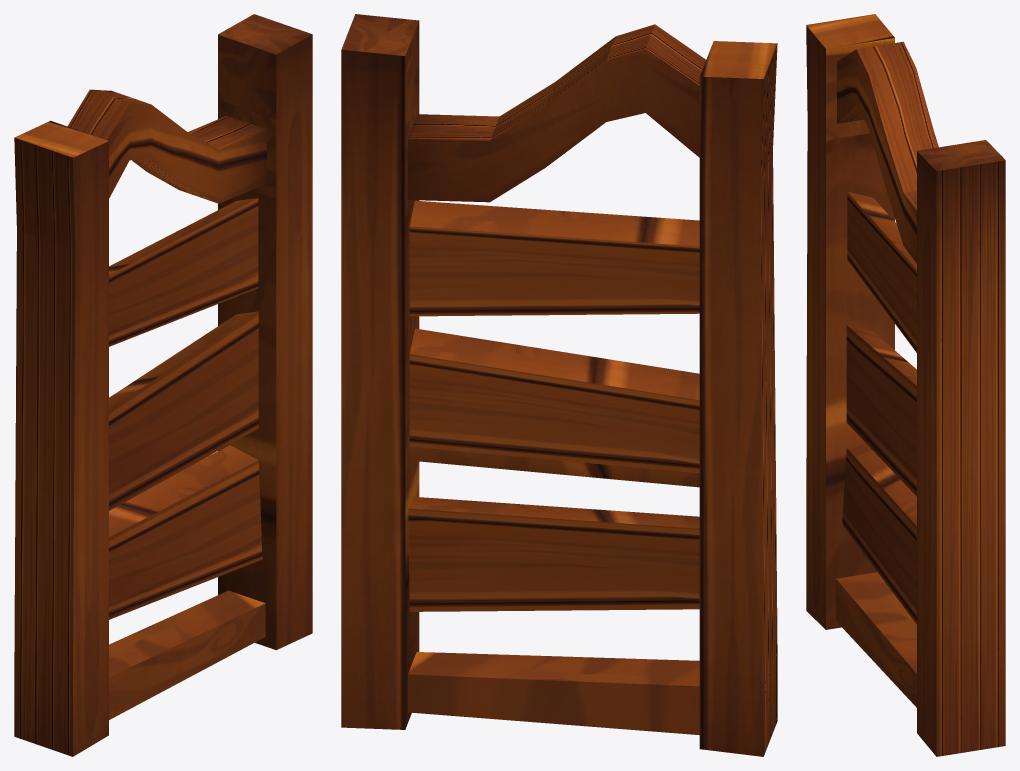
Rendered from derecha.fbx.
The picture shows the model from 3 angles, left to right: view 1: azimuth 30°, elevation 25°; view 2: azimuth 150°, elevation 25°; view 3: azimuth 270°, elevation 25°; orthographic projection. The views are drawn at different scales.
Parts seen in each view (by area): view 1: puerta derecha; view 2: puerta derecha; view 3: puerta derecha.
Boxes of the visible parts, left/top/right/bottom form: puerta derecha: left=14, top=14, right=312, bottom=756; puerta derecha: left=341, top=14, right=777, bottom=756; puerta derecha: left=806, top=14, right=1005, bottom=756.
Size of the model in its own units: 64.24 by 114 by 34.46.
